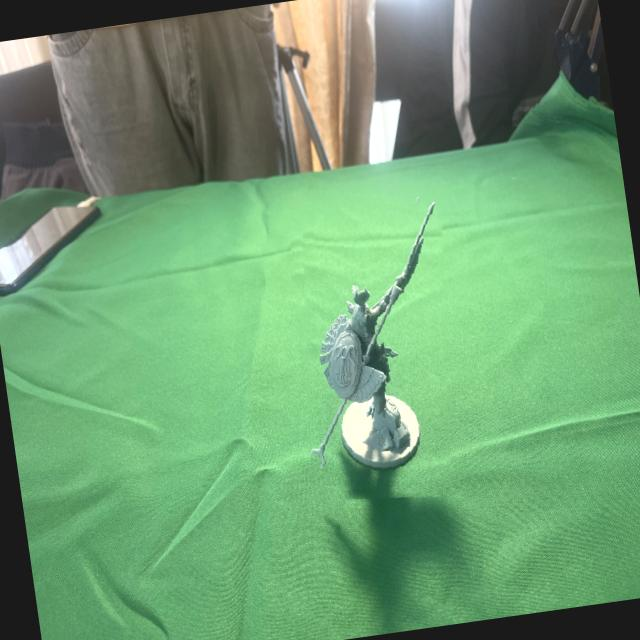isis: (278, 187, 474, 510)
